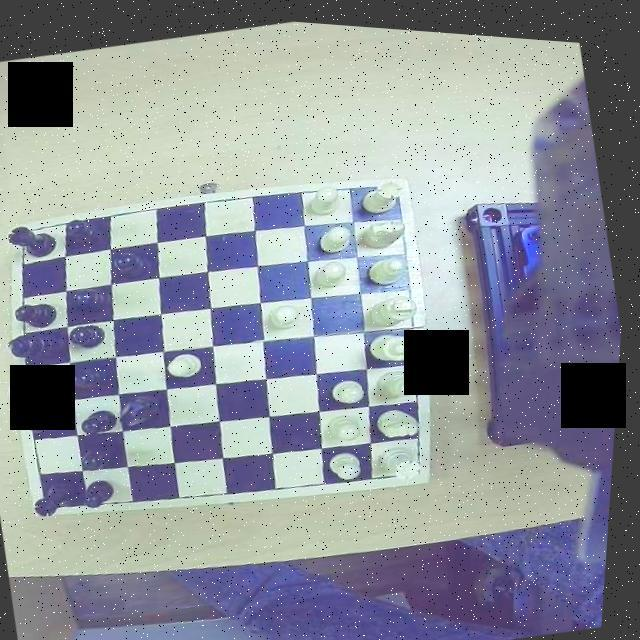chess-table-corners: (402, 440, 438, 478), (380, 170, 414, 207), (40, 479, 74, 514), (10, 221, 40, 251)
